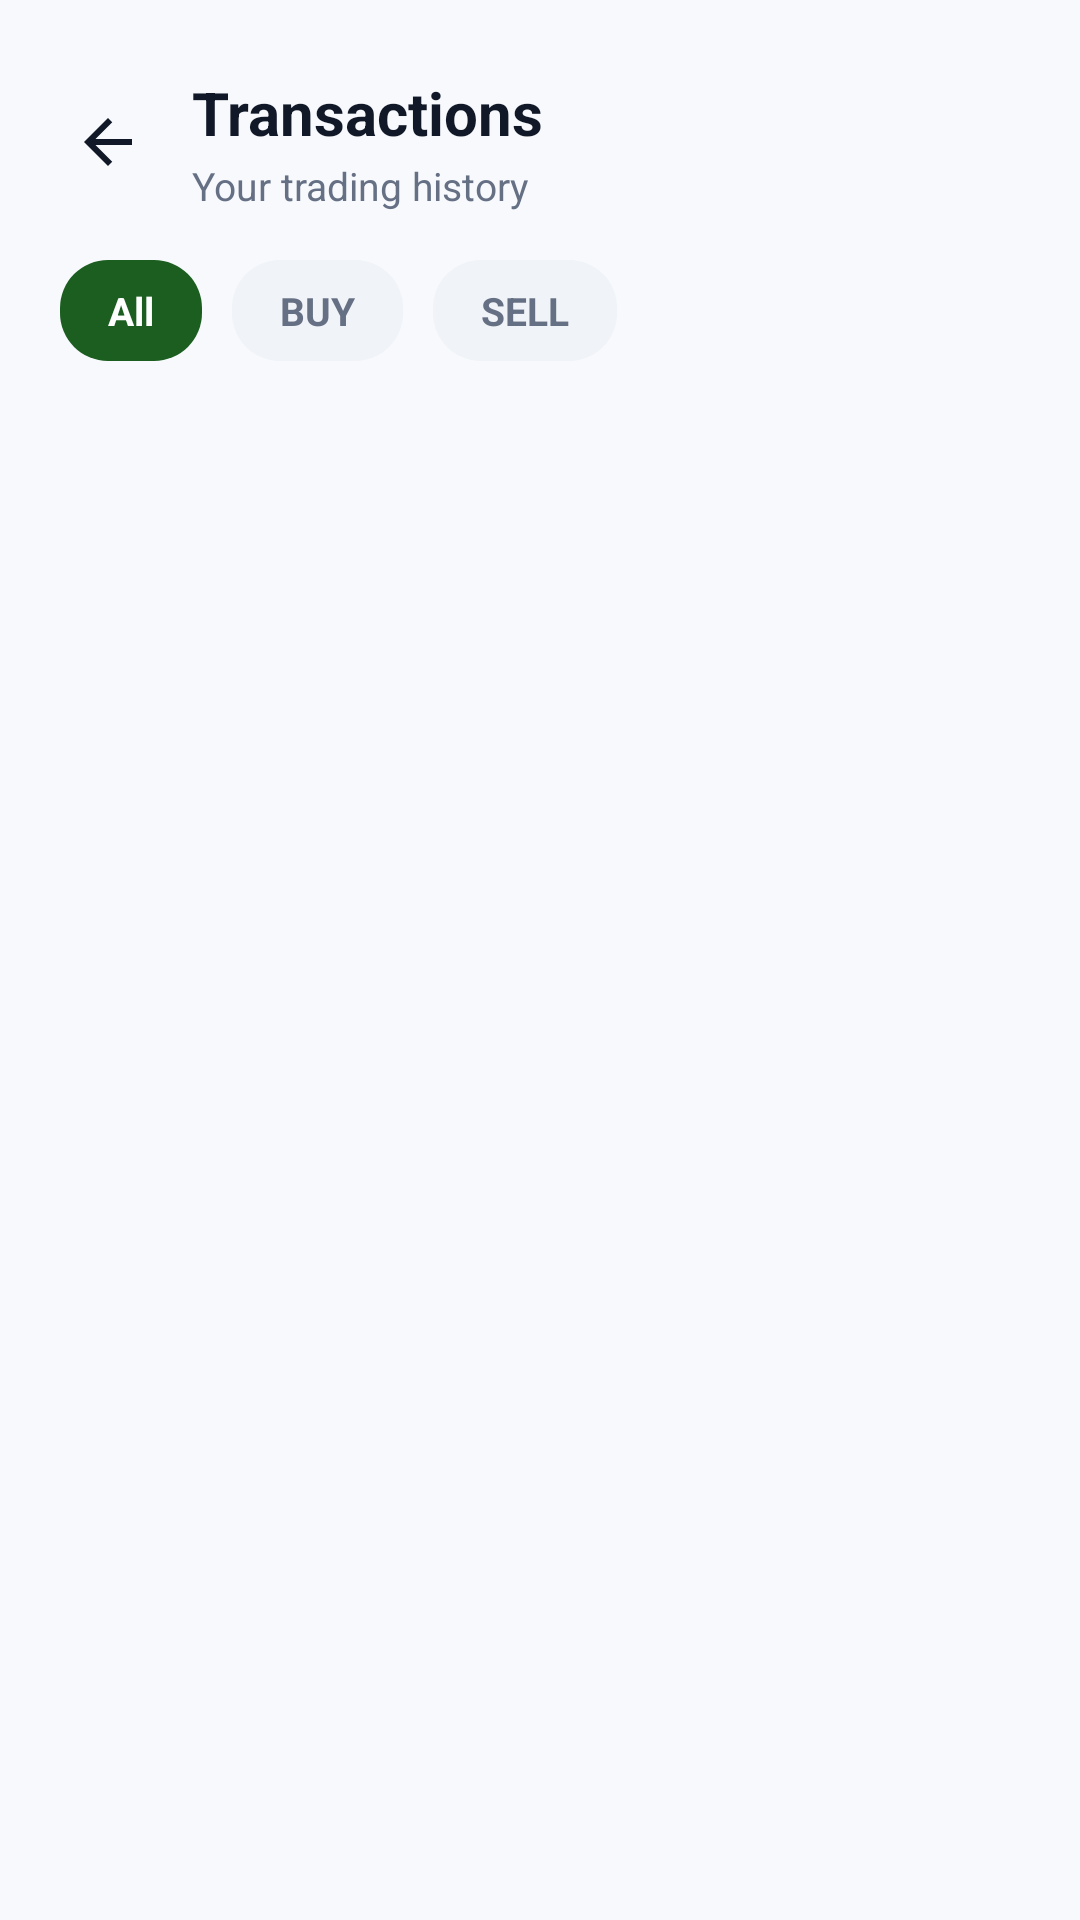

Named icons in this screenshot (1080w x 1920h) and their bounding boxes, (x1, y1, x2, y2):
Back: (84, 118, 132, 166)
